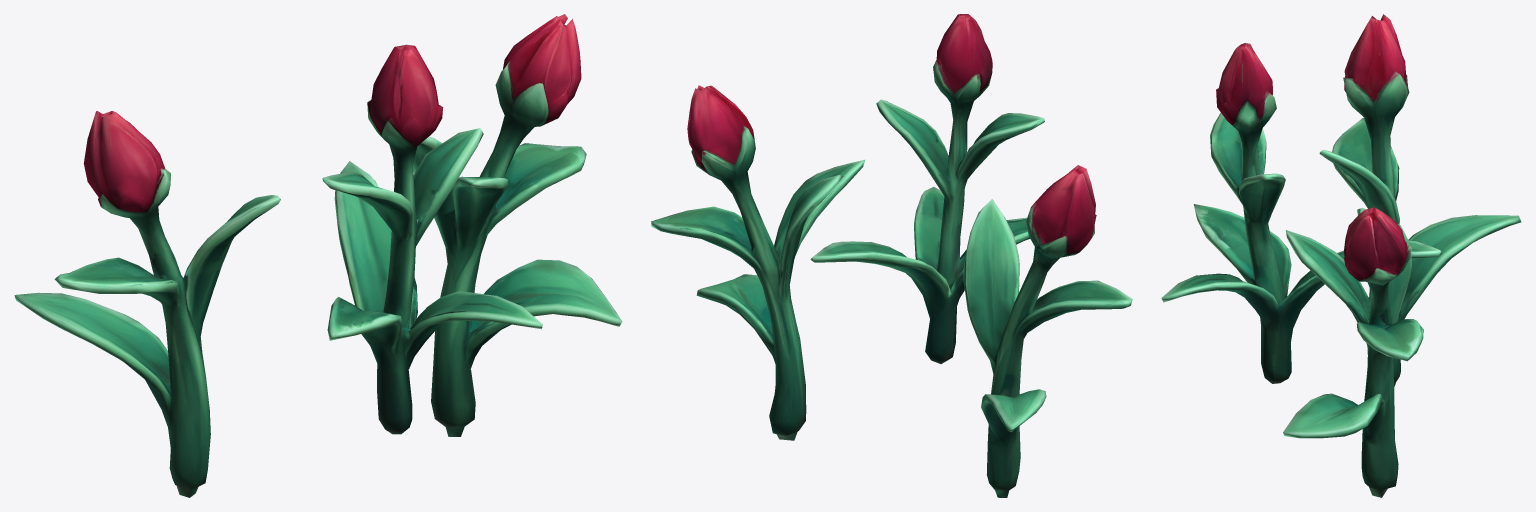
3 views of the same model, side by side, from view 1: azimuth 30°, elevation 25°; view 2: azimuth 150°, elevation 25°; view 3: azimuth 270°, elevation 25° (orthographic). The views are drawn at different scales.
Visible parts, largest first — view 1: Mesh_0; view 2: Mesh_0; view 3: Mesh_0.
Boxes of the visible parts, bbox=[...] form: Mesh_0: bbox=[14, 14, 622, 497]; Mesh_0: bbox=[651, 14, 1132, 497]; Mesh_0: bbox=[1161, 14, 1521, 497].
Bounding box in the file's own units: 1.91 × 1.59 × 1.31.
Materials: 1 (1 with a texture image).
